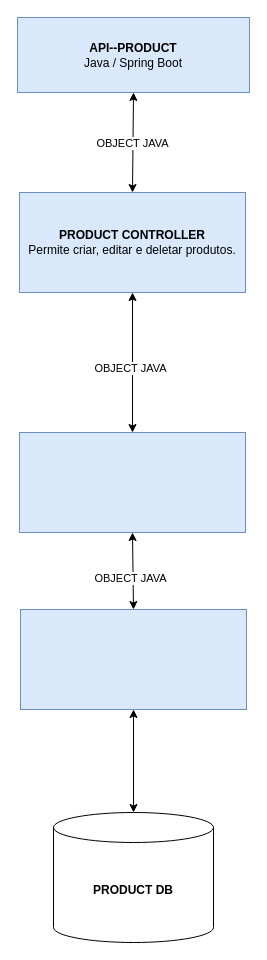
Image size: 267x960. Some labels were removed from this diagram. Each missing label, with the centre of its shape:
"PRODUCT REPOSITORY Permite criar, editar e deletar produtos." goes at (x=133, y=659).
"PRODUCT SERVICE Permite criar, editar e deletar produtos." goes at (x=132, y=482).
